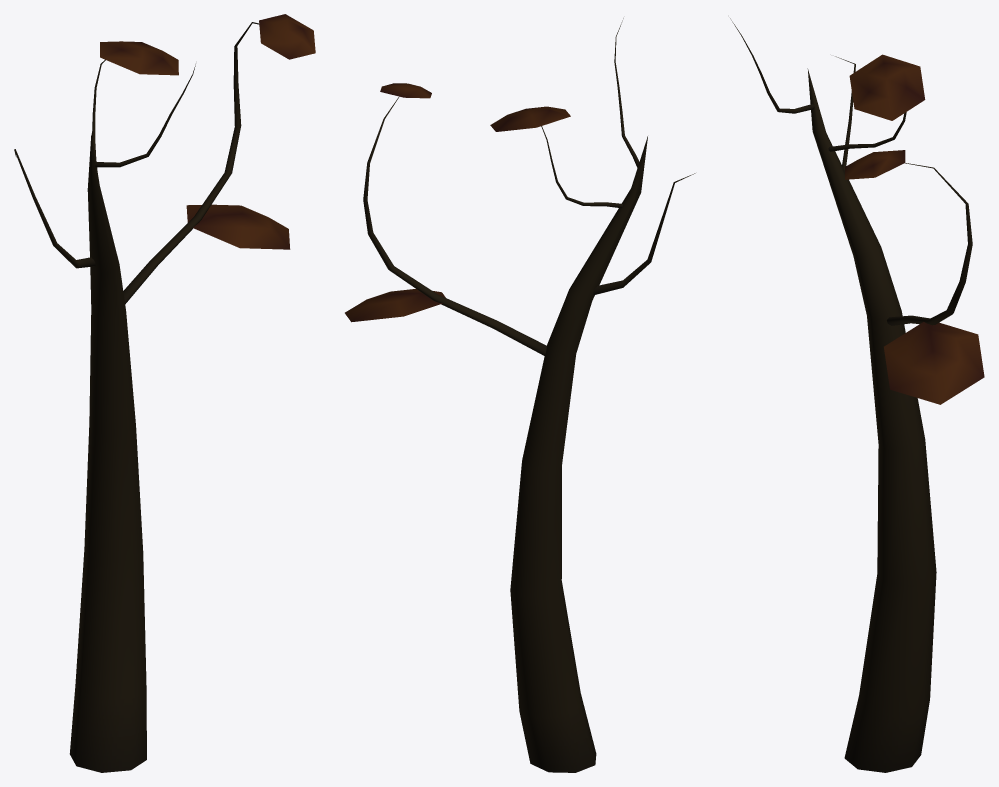
Rendered from SM_Tree_003.fbx.
The picture shows the model from 3 angles, left to right: view 1: azimuth 30°, elevation 25°; view 2: azimuth 150°, elevation 25°; view 3: azimuth 270°, elevation 25°; orthographic projection. The views are drawn at different scales.
Visible parts, largest first — view 1: SM_Tree_003; view 2: SM_Tree_003; view 3: SM_Tree_003.
Boxes of the visible parts, x1=… form: SM_Tree_003: x1=14, y1=14, x2=315, y2=772; SM_Tree_003: x1=345, y1=18, x2=695, y2=772; SM_Tree_003: x1=730, y1=18, x2=984, y2=772.
Bounding box in the file's own units: 68.89 × 150 × 46.85.
